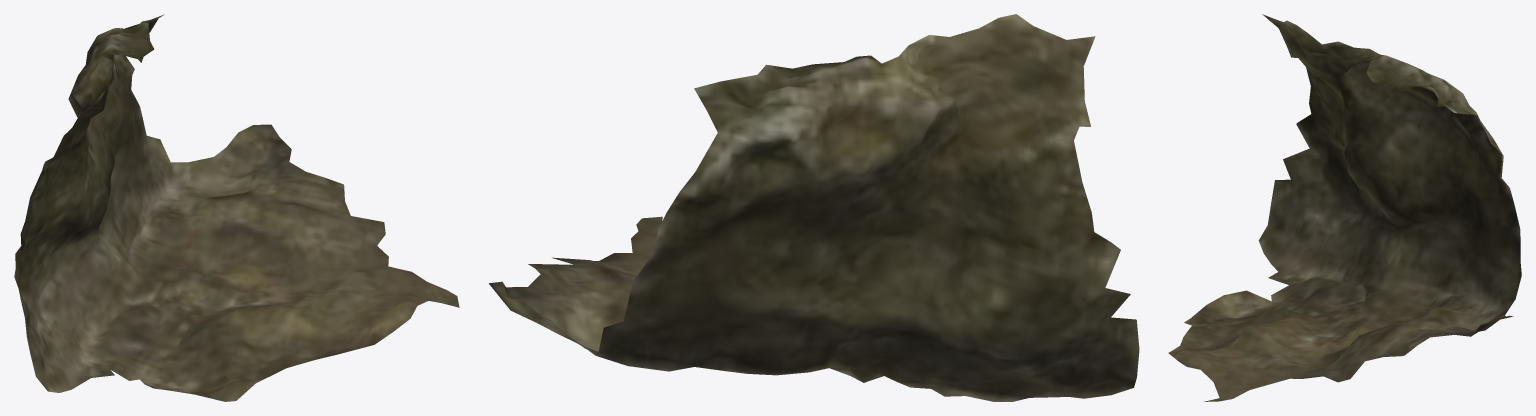
The model's file is kf_rock_moss_set.glb.
3 views of the same model, side by side, from view 1: azimuth 30°, elevation 25°; view 2: azimuth 150°, elevation 25°; view 3: azimuth 270°, elevation 25° (orthographic). The views are drawn at different scales.
Parts seen in each view (by area): view 1: rock_moss_set_02_rock12; view 2: rock_moss_set_02_rock12; view 3: rock_moss_set_02_rock12.
Boxes of the visible parts, x1,y1,x2,y2 form: rock_moss_set_02_rock12: (14, 14, 459, 401); rock_moss_set_02_rock12: (489, 14, 1139, 401); rock_moss_set_02_rock12: (1168, 14, 1521, 401).
Size of what is drawn, in the model's own units: 1.72 by 1.2 by 1.42.
1 material, 1 textured.
